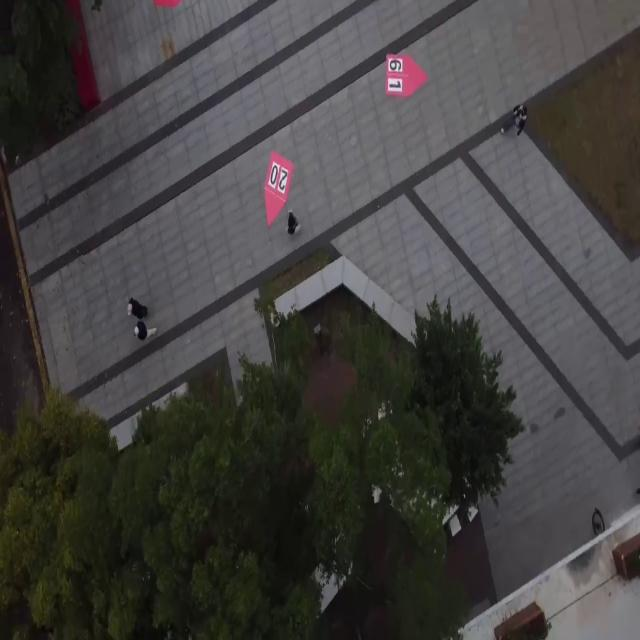-sign-: (380, 48, 430, 112), (264, 150, 294, 228)
